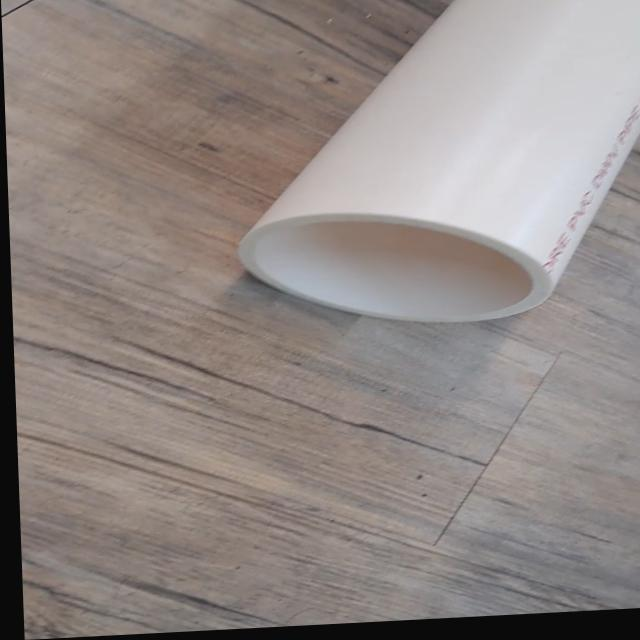CORAL: (220, 0, 640, 343)
